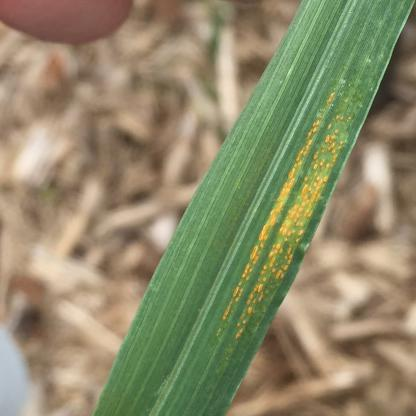Corn rust leaf: (136, 3, 414, 416)
